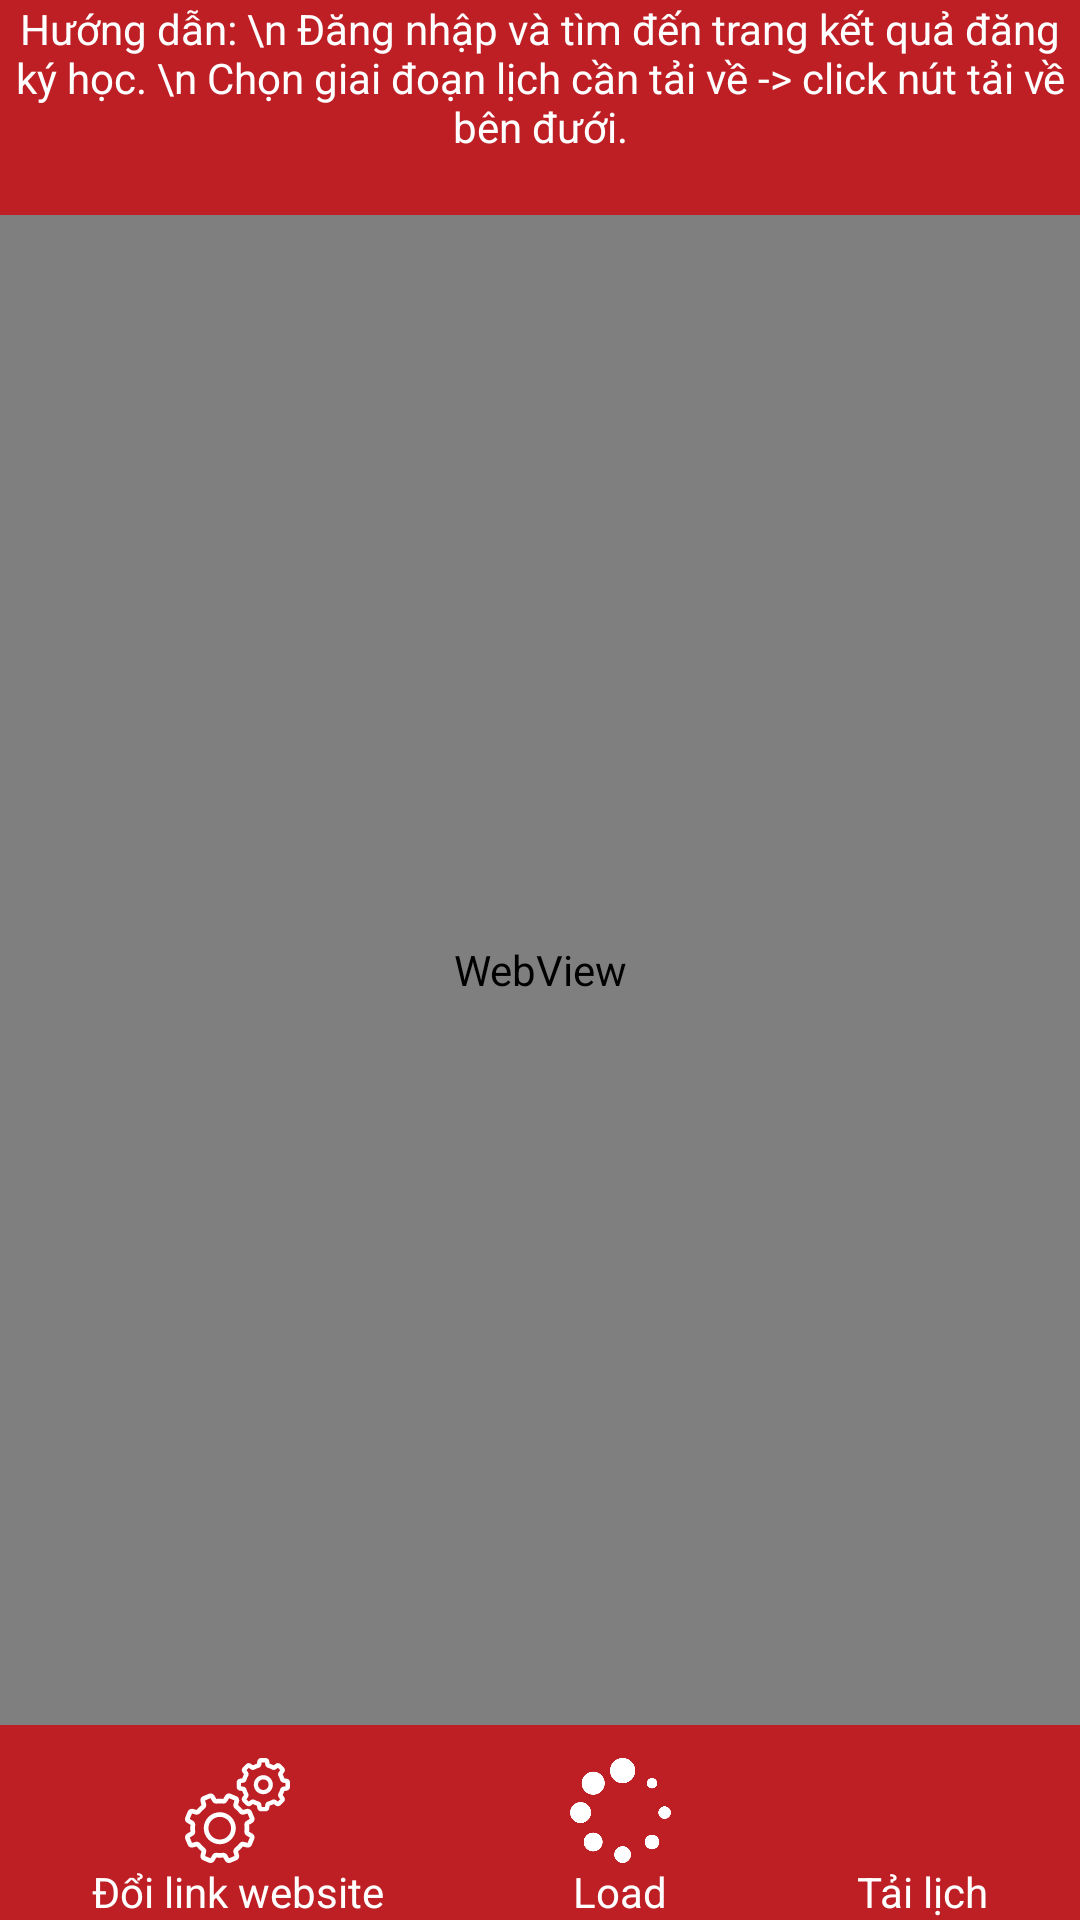

Locate icon controls on the screen. Image size 1080 × 1920, boxes as (x1, y1, x2, y2).
settings: (185, 1758, 290, 1863)
